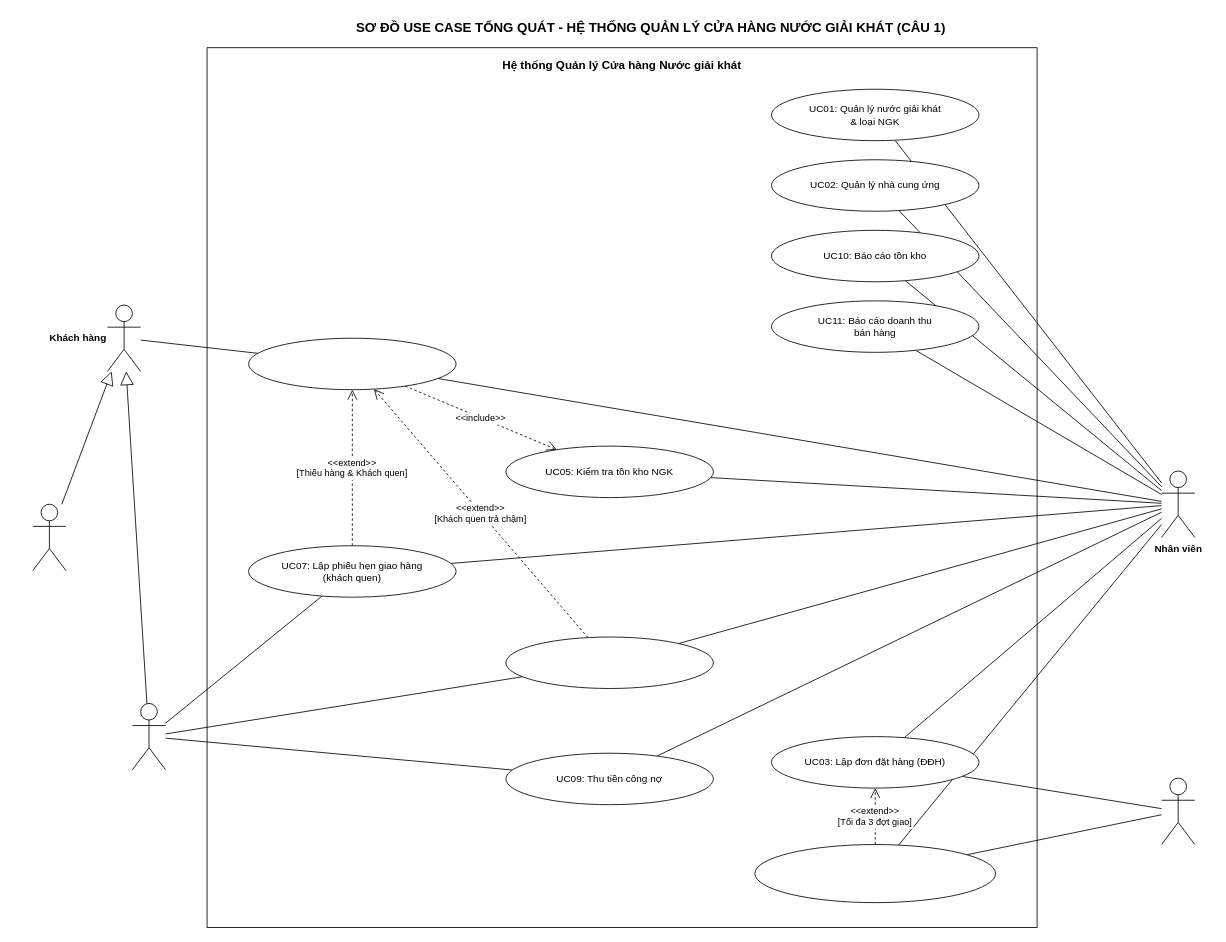
This 1226x942 diagram has some shape labels left out. The centre of each missing label's shape, as x and y in pixels:
Khách quen: (149,736)
Khách vãng lai: (49,537)
Nhà cung ứng: (1178,811)
UC04: Nhận hàng & lập phiếu giao hàng (tối đa 3 đợt): (875,873)
UC06: Bán hàng & lập hóa đơn: (352,363)
UC08: Lập phiếu ghi nợ (khách quen): (609,662)
